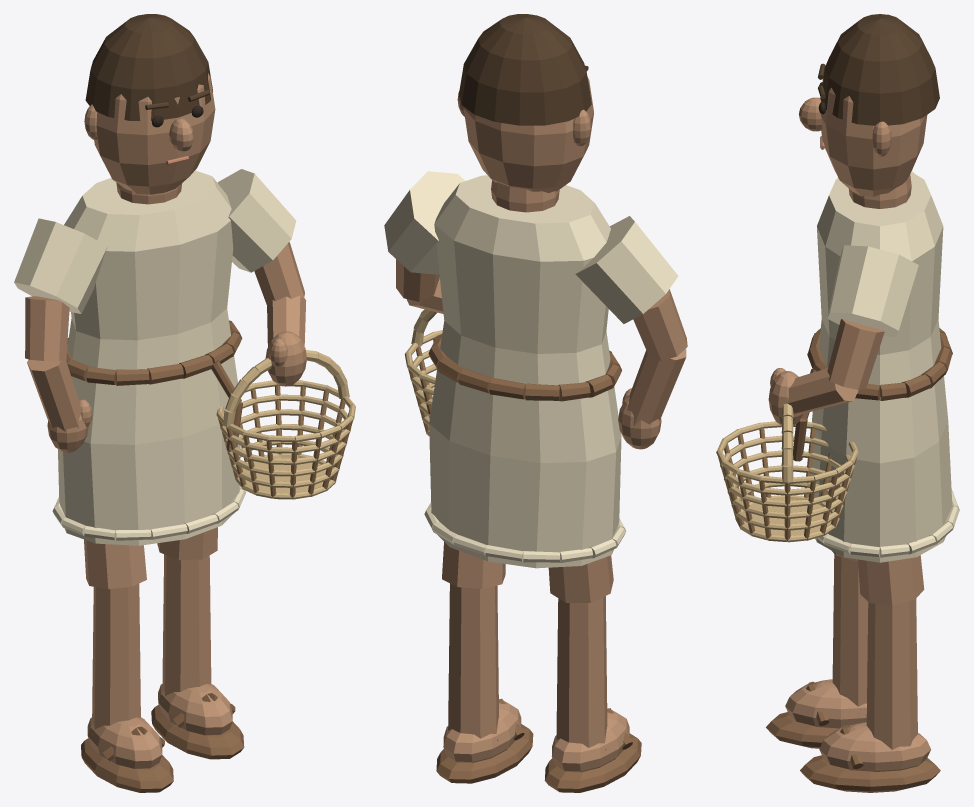
3 renders of one model, left to right at view 1: azimuth 30°, elevation 25°; view 2: azimuth 150°, elevation 25°; view 3: azimuth 270°, elevation 25°, orthographic. The views are drawn at different scales.
Visible parts, largest first — view 1: BA-0090 Child accompanying a shopper batched; view 2: BA-0090 Child accompanying a shopper batched; view 3: BA-0090 Child accompanying a shopper batched.
Boxes of the visible parts, box(x1,y1,x2,y2) form: BA-0090 Child accompanying a shopper batched: box(14, 14, 355, 792); BA-0090 Child accompanying a shopper batched: box(384, 14, 687, 792); BA-0090 Child accompanying a shopper batched: box(716, 14, 959, 792).
Bounding box in the file's own units: 0.4362 × 1.05 × 0.3105.
